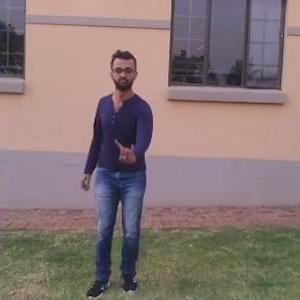takeoff-hand: (109, 134, 142, 169)
